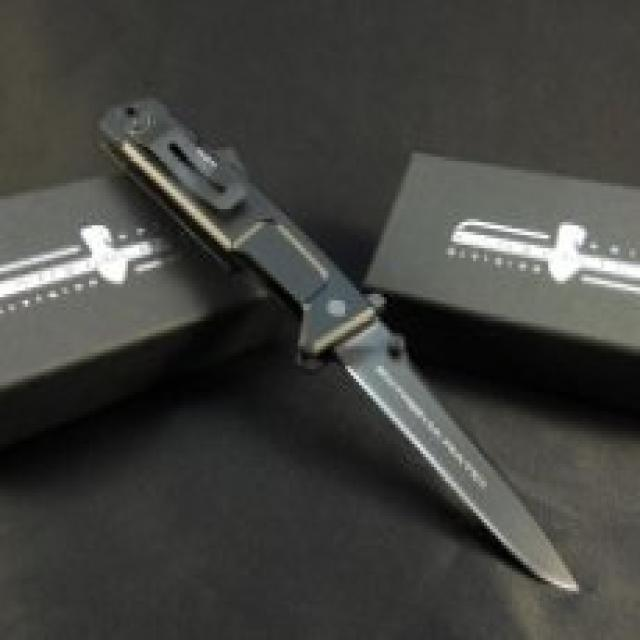knife: (100, 93, 586, 603)
